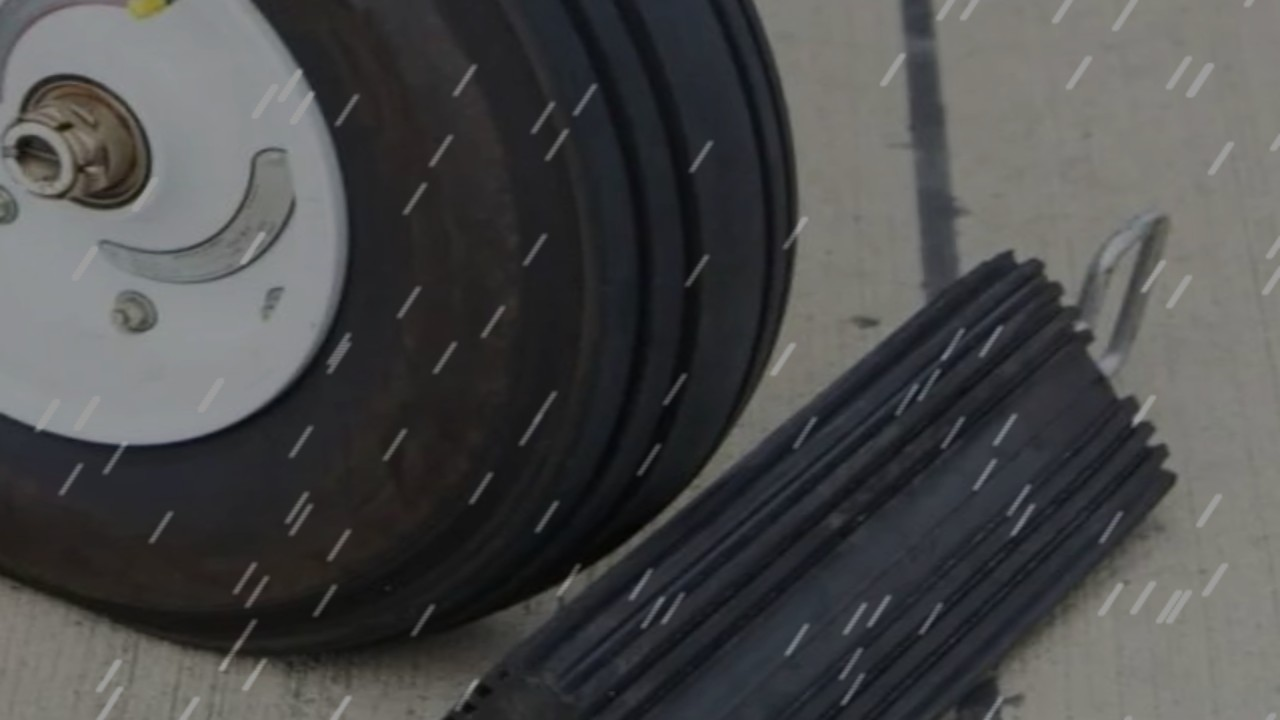chock: (289, 229, 1280, 720)
wheel: (0, 0, 825, 680)
